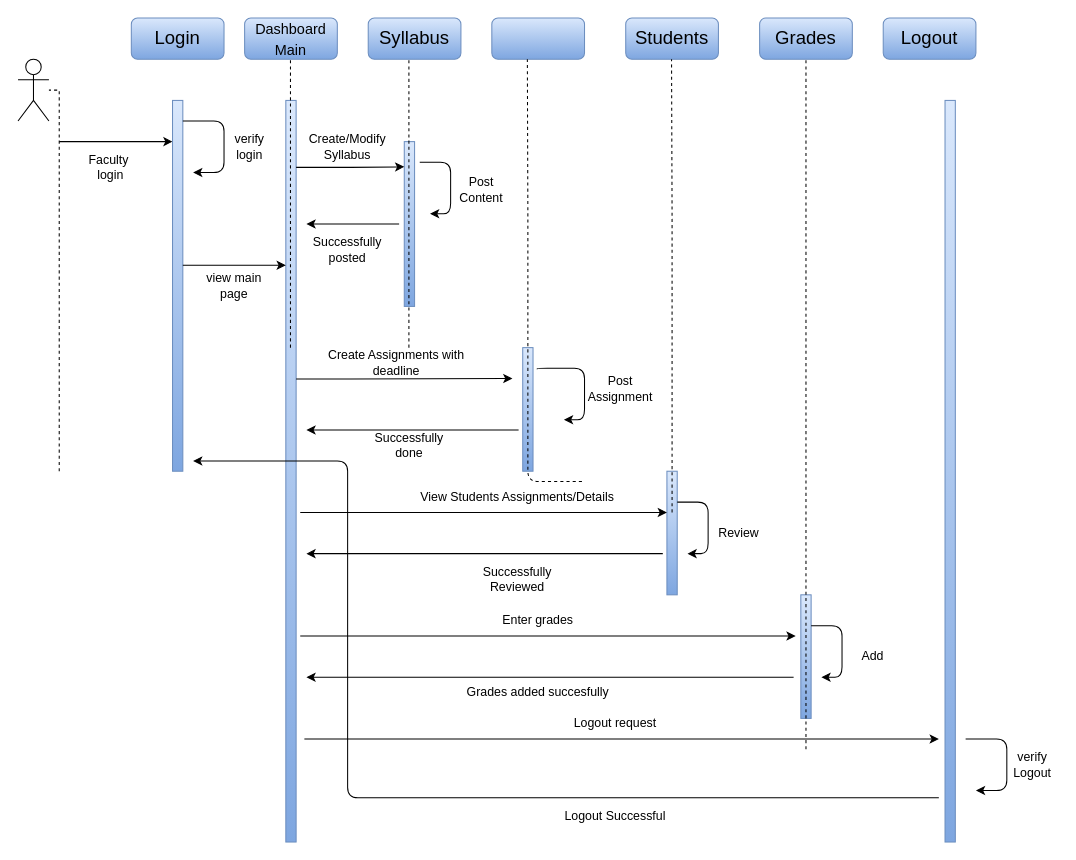
This 1076x860 diagram has some shape labels left out. The centre of each missing label's shape, as x and y in pixels:
"Actor" goes at point (33, 89).
"Assignments" goes at point (538, 38).
